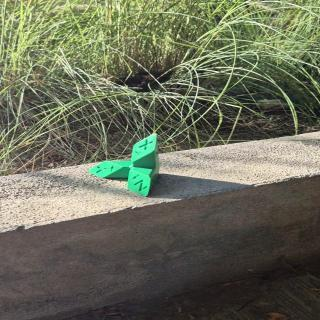eje: (88, 132, 162, 198)
